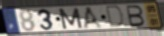3: (37, 8, 57, 32)
8: (18, 8, 37, 32)
A: (82, 6, 105, 30)
B: (125, 5, 146, 28)
D: (105, 5, 125, 29)
M: (57, 7, 85, 30)
